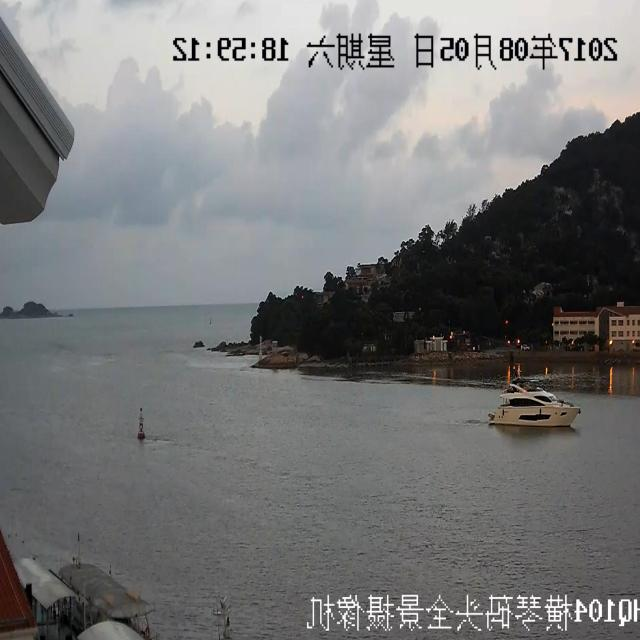buoy: (125, 376, 146, 443)
passenger ship: (486, 376, 590, 446)
reef: (0, 304, 71, 336)
